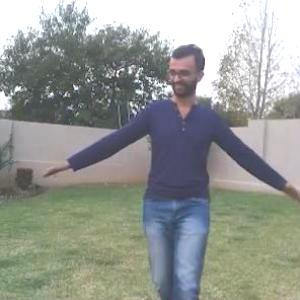land: (49, 41, 284, 299)
